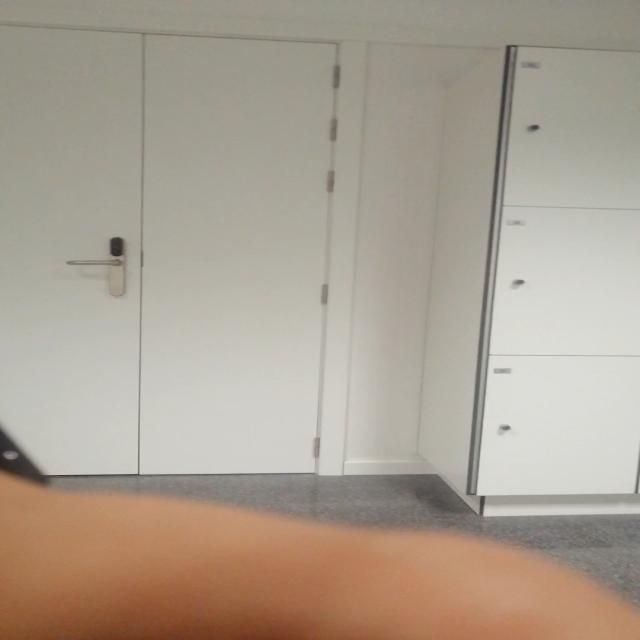door_handle: (63, 259, 129, 268)
